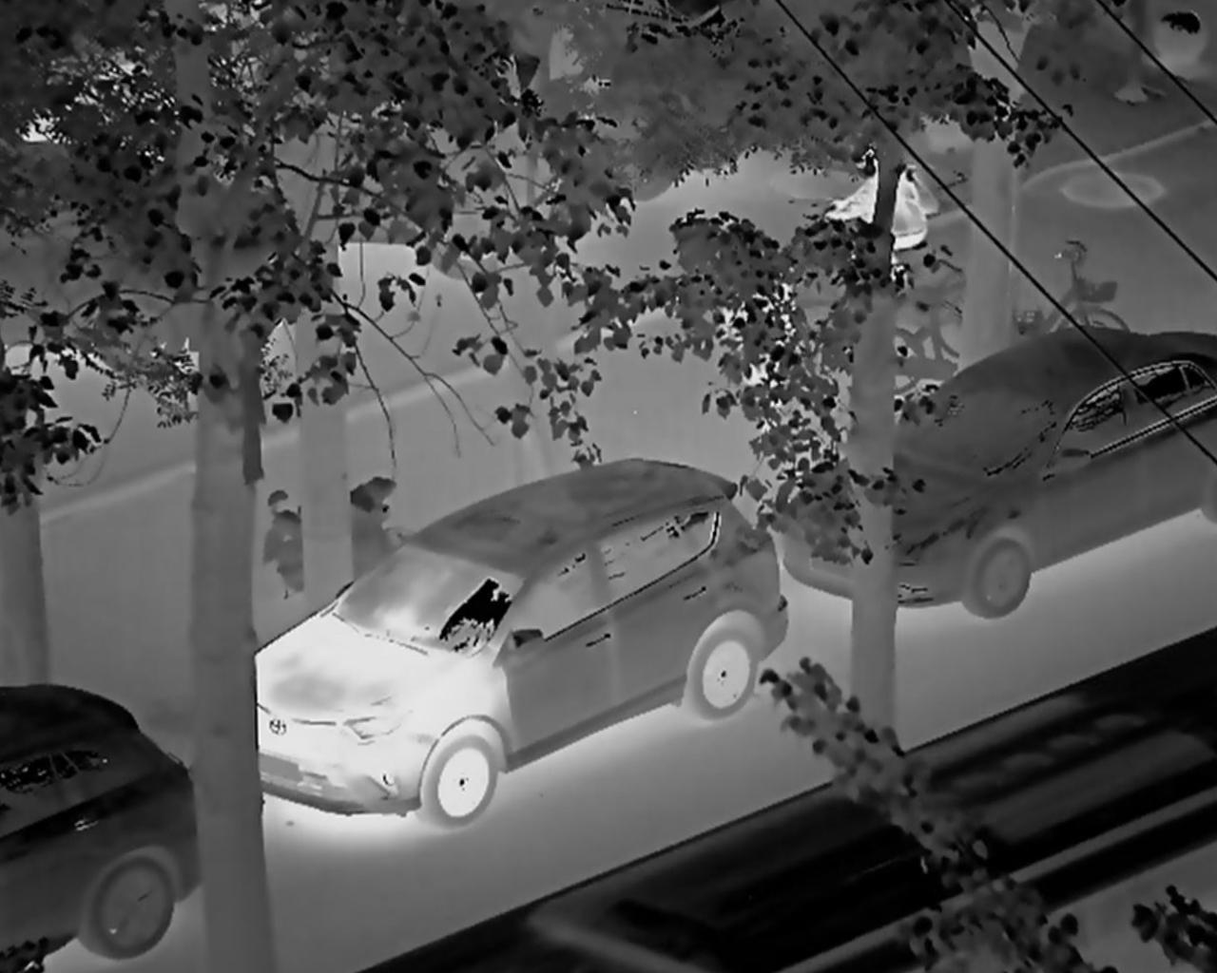person: (824, 129, 937, 304)
